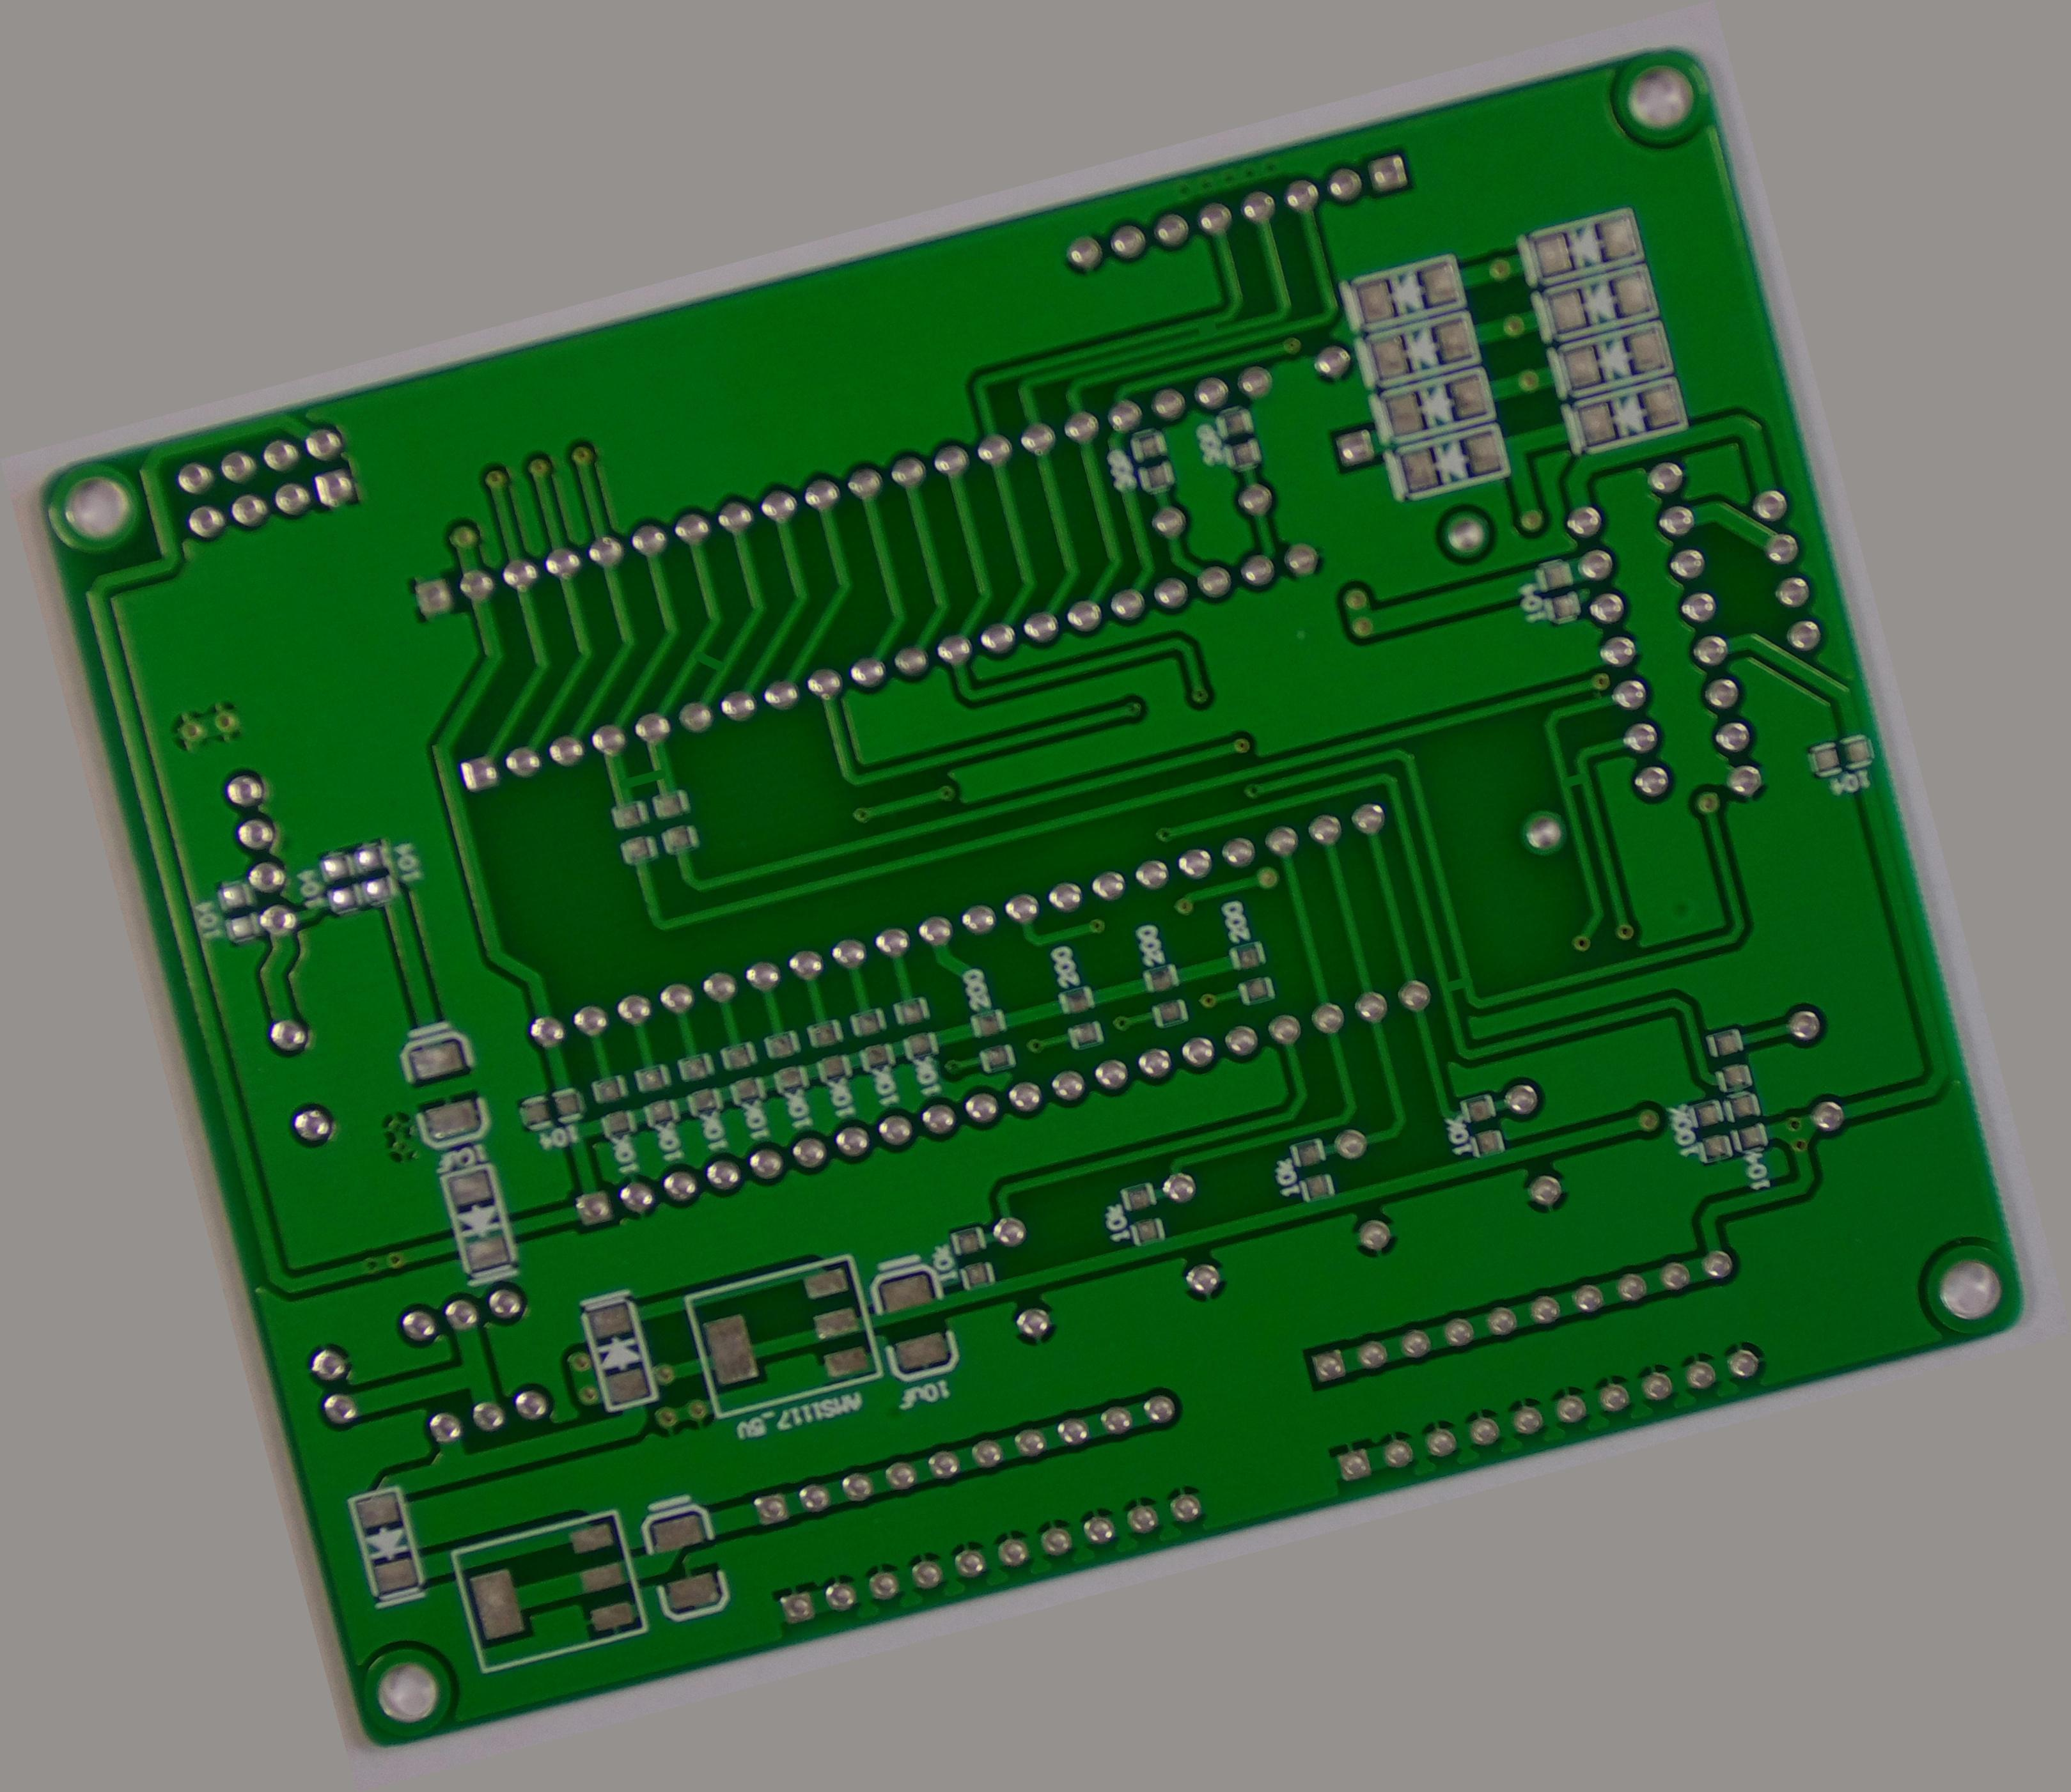short: (593, 752, 683, 806), (676, 637, 738, 687), (1546, 755, 1597, 801), (1176, 305, 1227, 350), (1432, 965, 1479, 1007)
